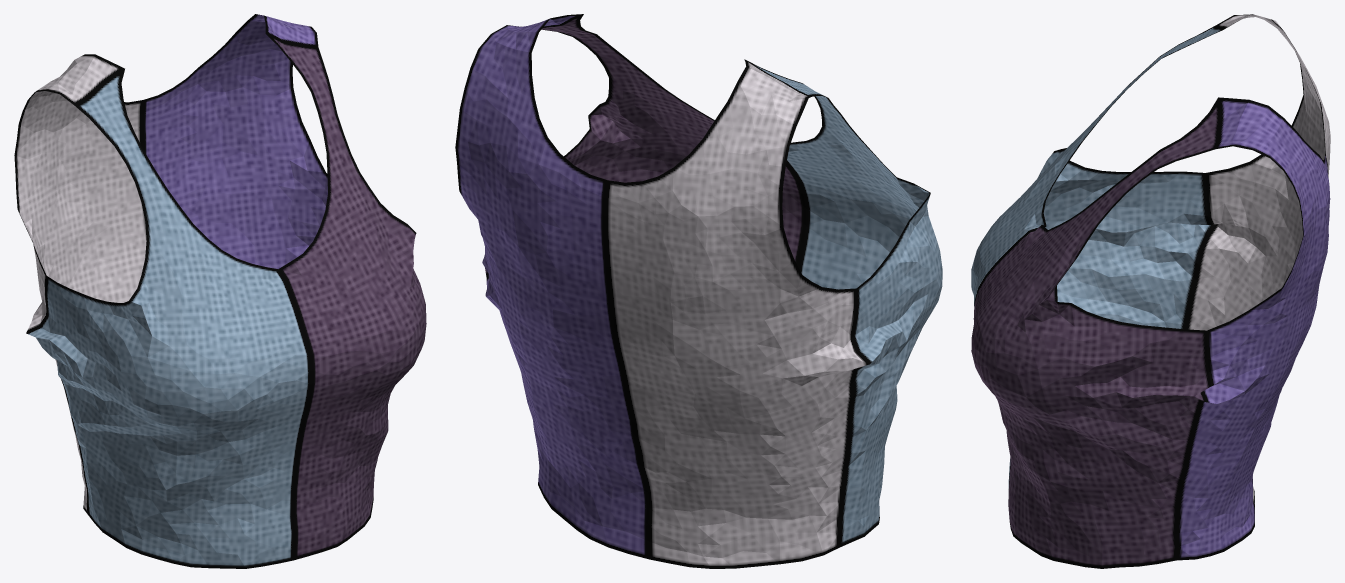
The model's file is tank_knit4_s40_cw10_sim.obj.
The picture shows the model from 3 angles, left to right: view 1: azimuth 30°, elevation 25°; view 2: azimuth 150°, elevation 25°; view 3: azimuth 270°, elevation 25°; orthographic projection. The views are drawn at different scales.
Bounding box in the file's own units: 22.99 × 28.65 × 20.34.
1 material, 1 textured.
